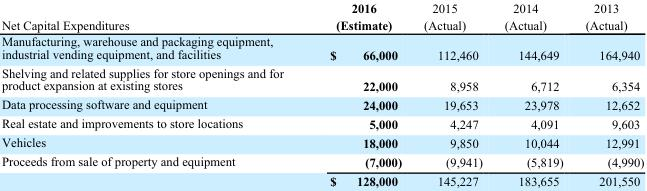table: (0, 0, 643, 187)
table column: (0, 0, 306, 187), (306, 0, 412, 187), (492, 0, 573, 187), (412, 0, 492, 187), (573, 0, 643, 187)
table column header: (0, 0, 643, 32)
table row: (0, 0, 643, 32), (0, 63, 643, 95), (0, 32, 643, 63), (0, 151, 643, 171), (0, 95, 643, 114), (0, 132, 643, 151), (0, 114, 643, 132), (0, 171, 643, 187)
